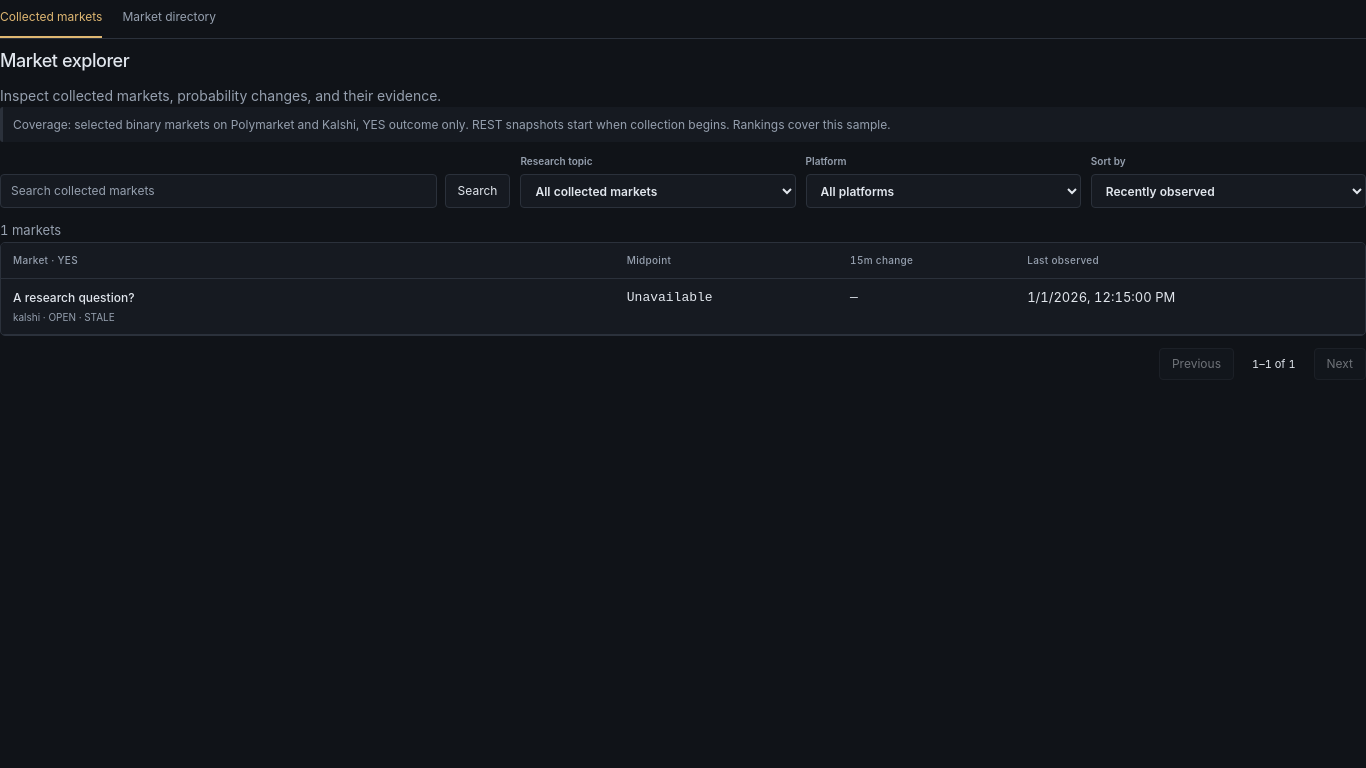
it: uses a closable research dialog on compact screens
Click the button "A research question?": (74,297) x1=13 y1=288 x2=134 y2=307
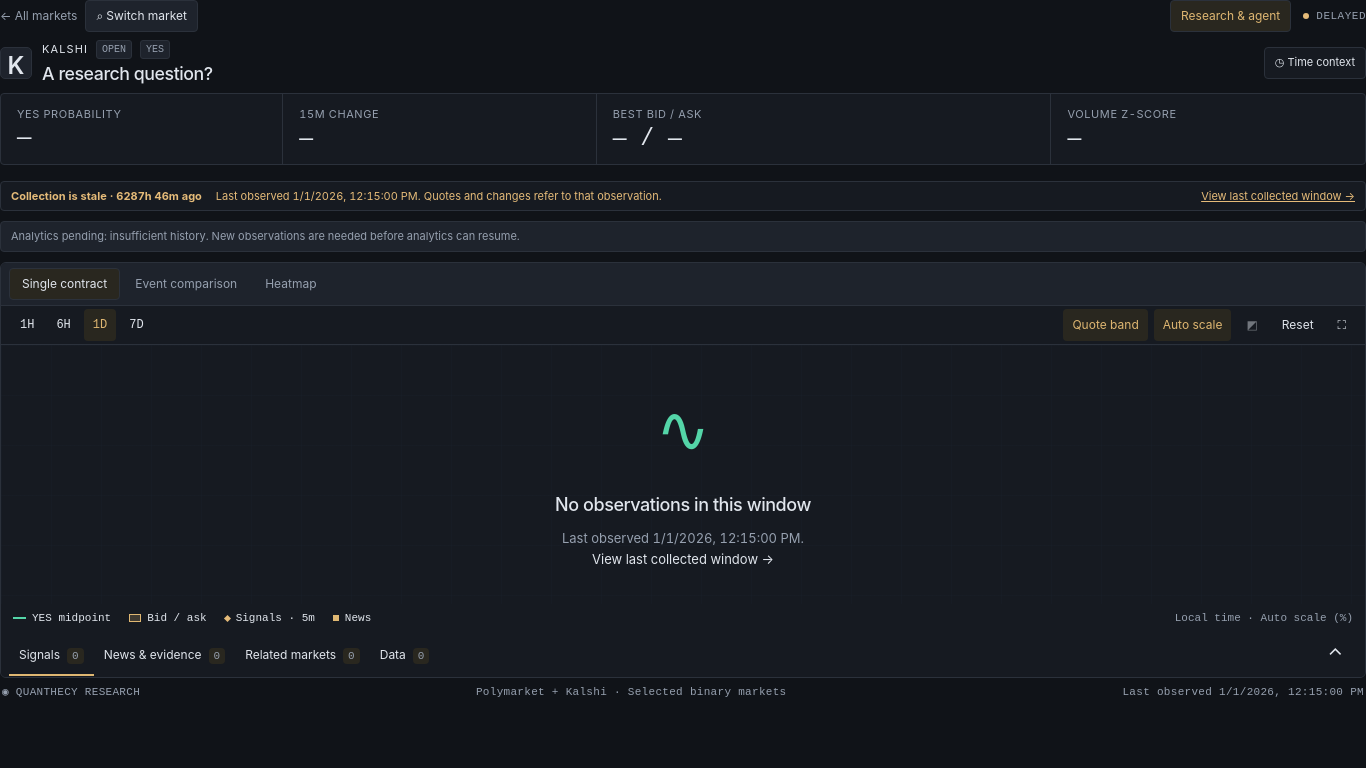
expect the heading "No observations in this window" is shown: met, box x1=555 y1=491 x2=811 y2=518
Click the button "Research & agent": (1231,16) x1=1170 y1=0 x2=1291 y2=32
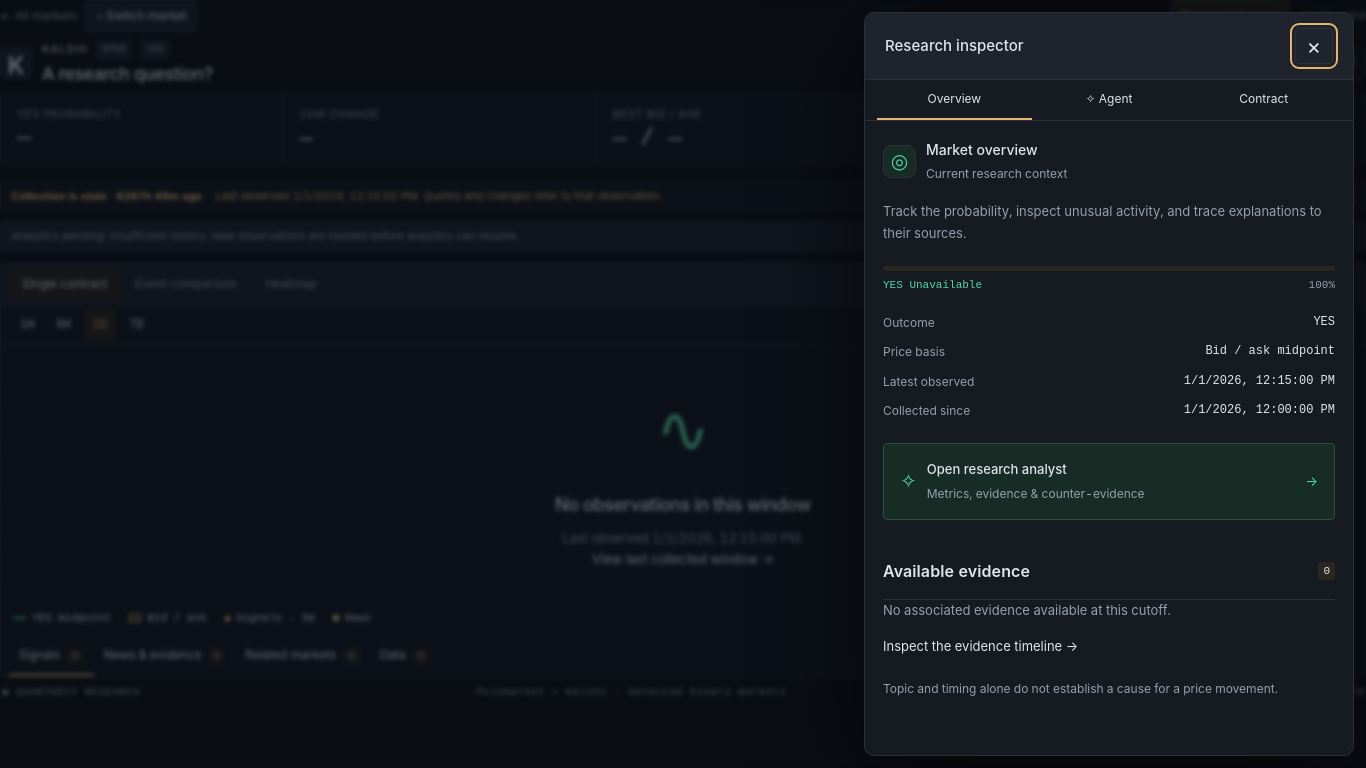
expect the dialog "Research inspector" is shown: met, box x1=864 y1=12 x2=1354 y2=756
Click the button named "Close Research inspector": (1314,46) x1=1295 y1=28 x2=1333 y2=64
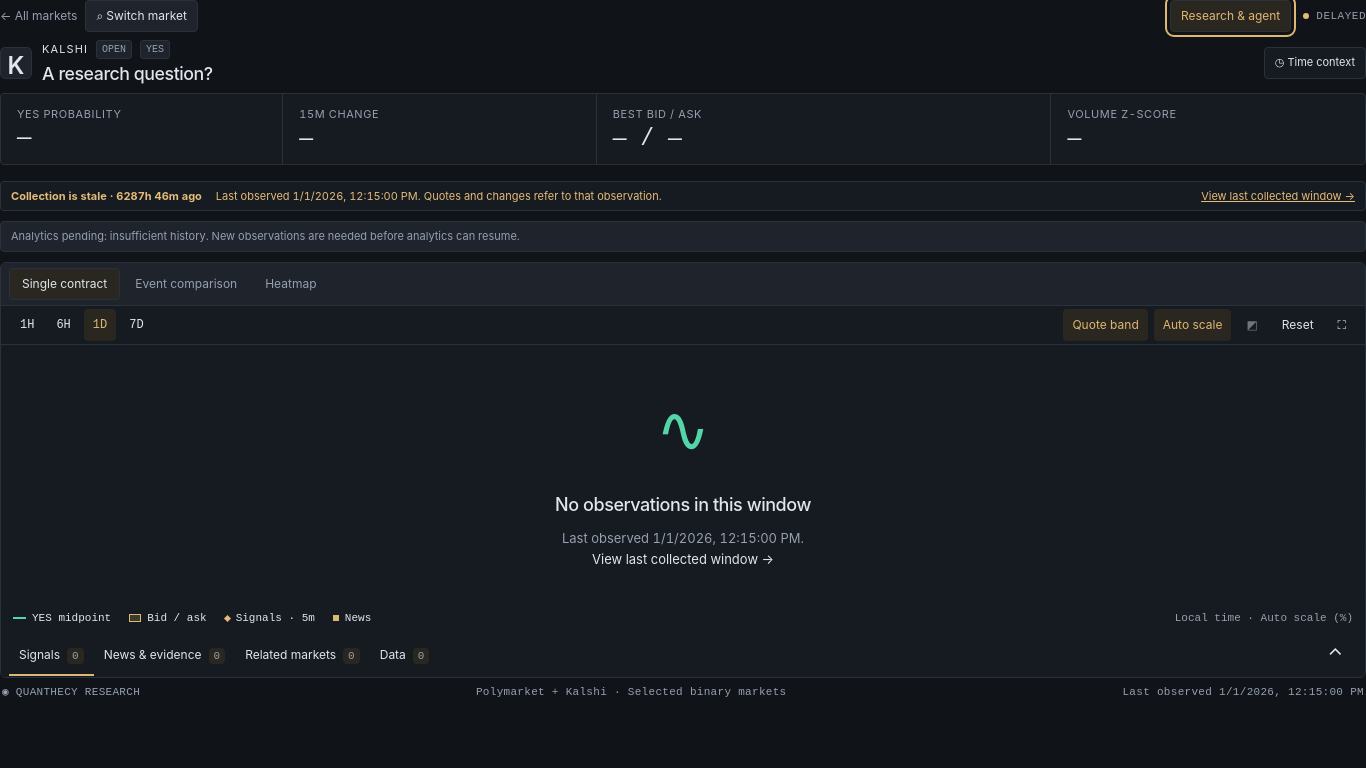
expect the dialog is gone: met
